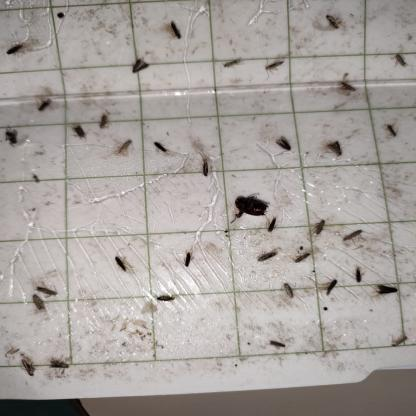prays_oleae: (336, 60, 360, 107), (108, 241, 133, 283), (370, 275, 405, 305), (270, 124, 294, 166), (126, 46, 153, 81), (113, 132, 141, 165), (33, 274, 63, 302), (252, 245, 284, 271), (150, 129, 172, 166), (19, 349, 39, 389), (319, 6, 344, 38), (320, 268, 343, 302), (340, 217, 367, 245), (151, 284, 179, 310), (49, 350, 73, 379), (265, 332, 289, 360), (311, 210, 331, 243), (348, 257, 367, 291), (32, 92, 52, 124), (264, 53, 288, 79), (166, 14, 184, 48), (197, 147, 212, 187), (390, 326, 410, 355), (68, 119, 89, 146), (6, 38, 26, 66), (394, 44, 410, 79), (222, 48, 242, 74), (179, 242, 196, 272), (293, 245, 312, 270), (30, 289, 46, 318), (4, 125, 23, 149), (385, 112, 398, 144), (100, 105, 111, 137), (262, 217, 278, 237), (281, 282, 295, 301)
